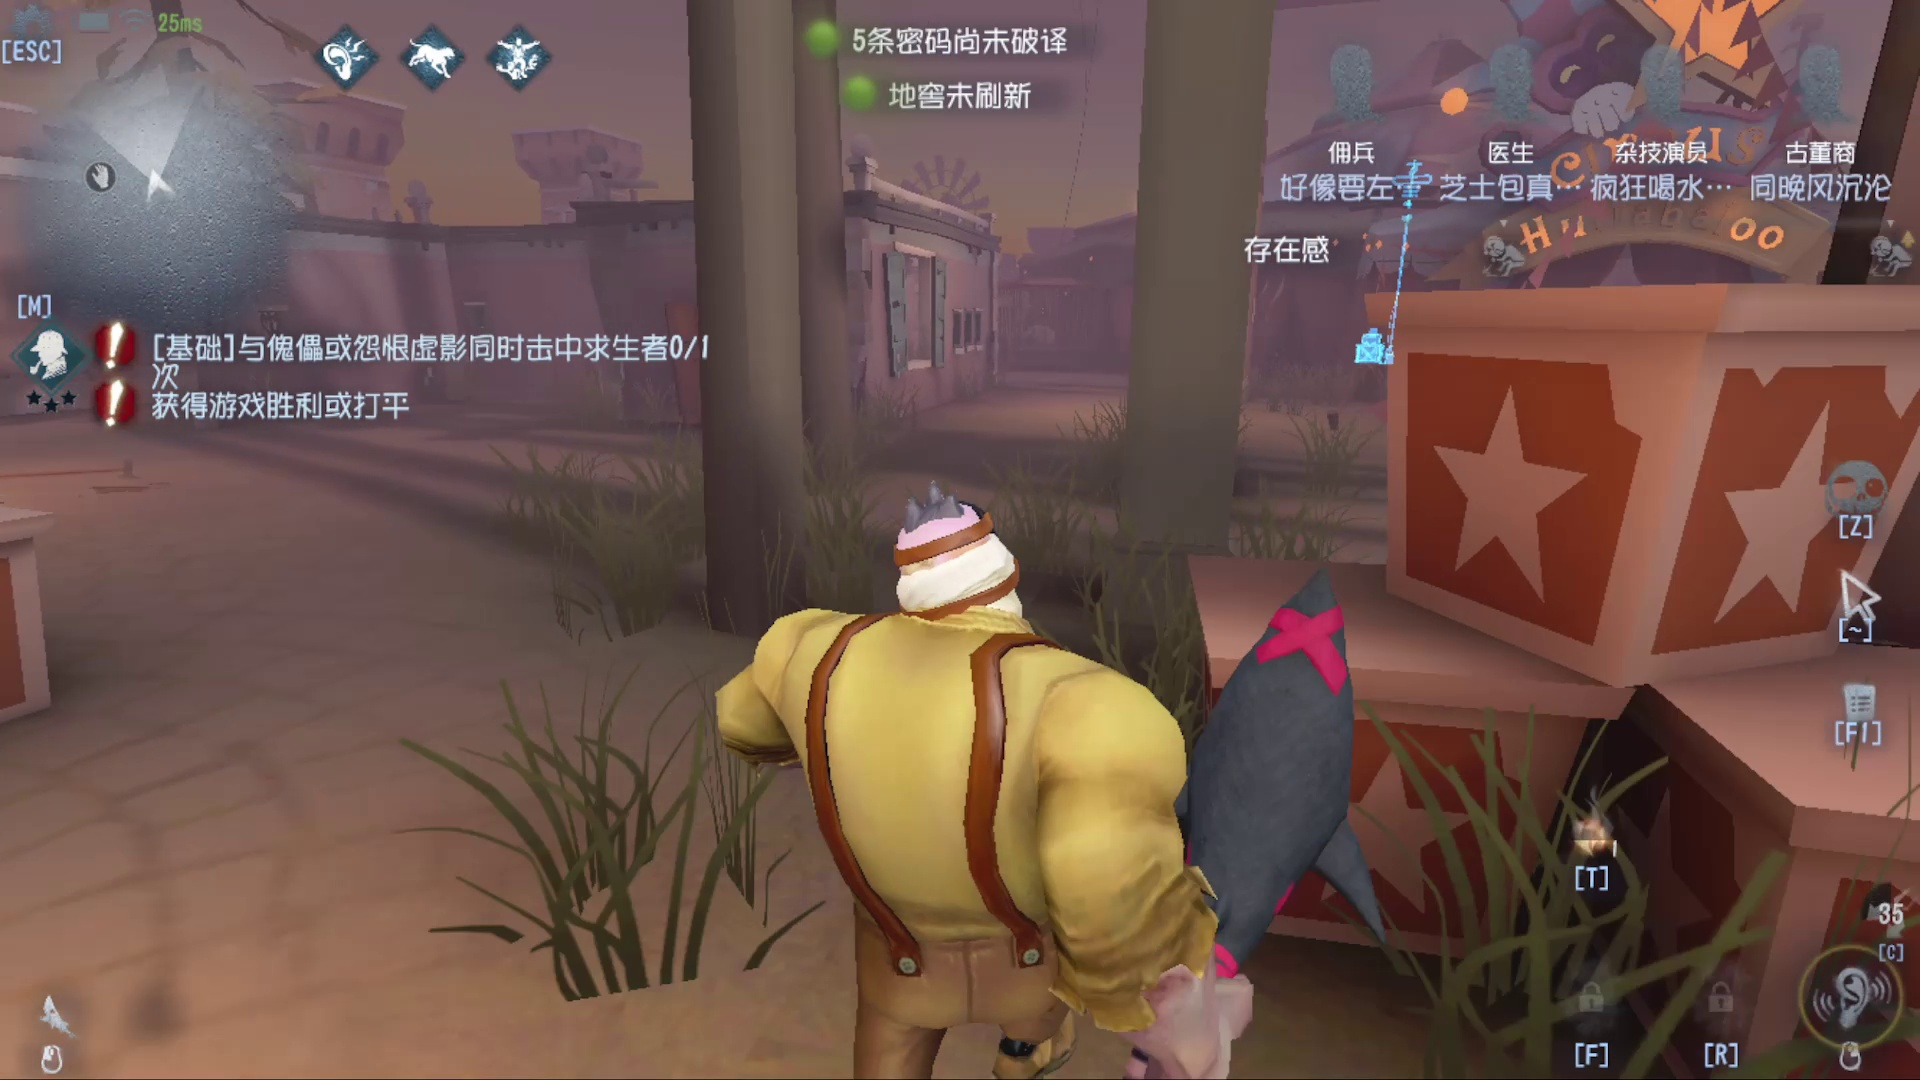密码机: (1342, 146, 1441, 392)
